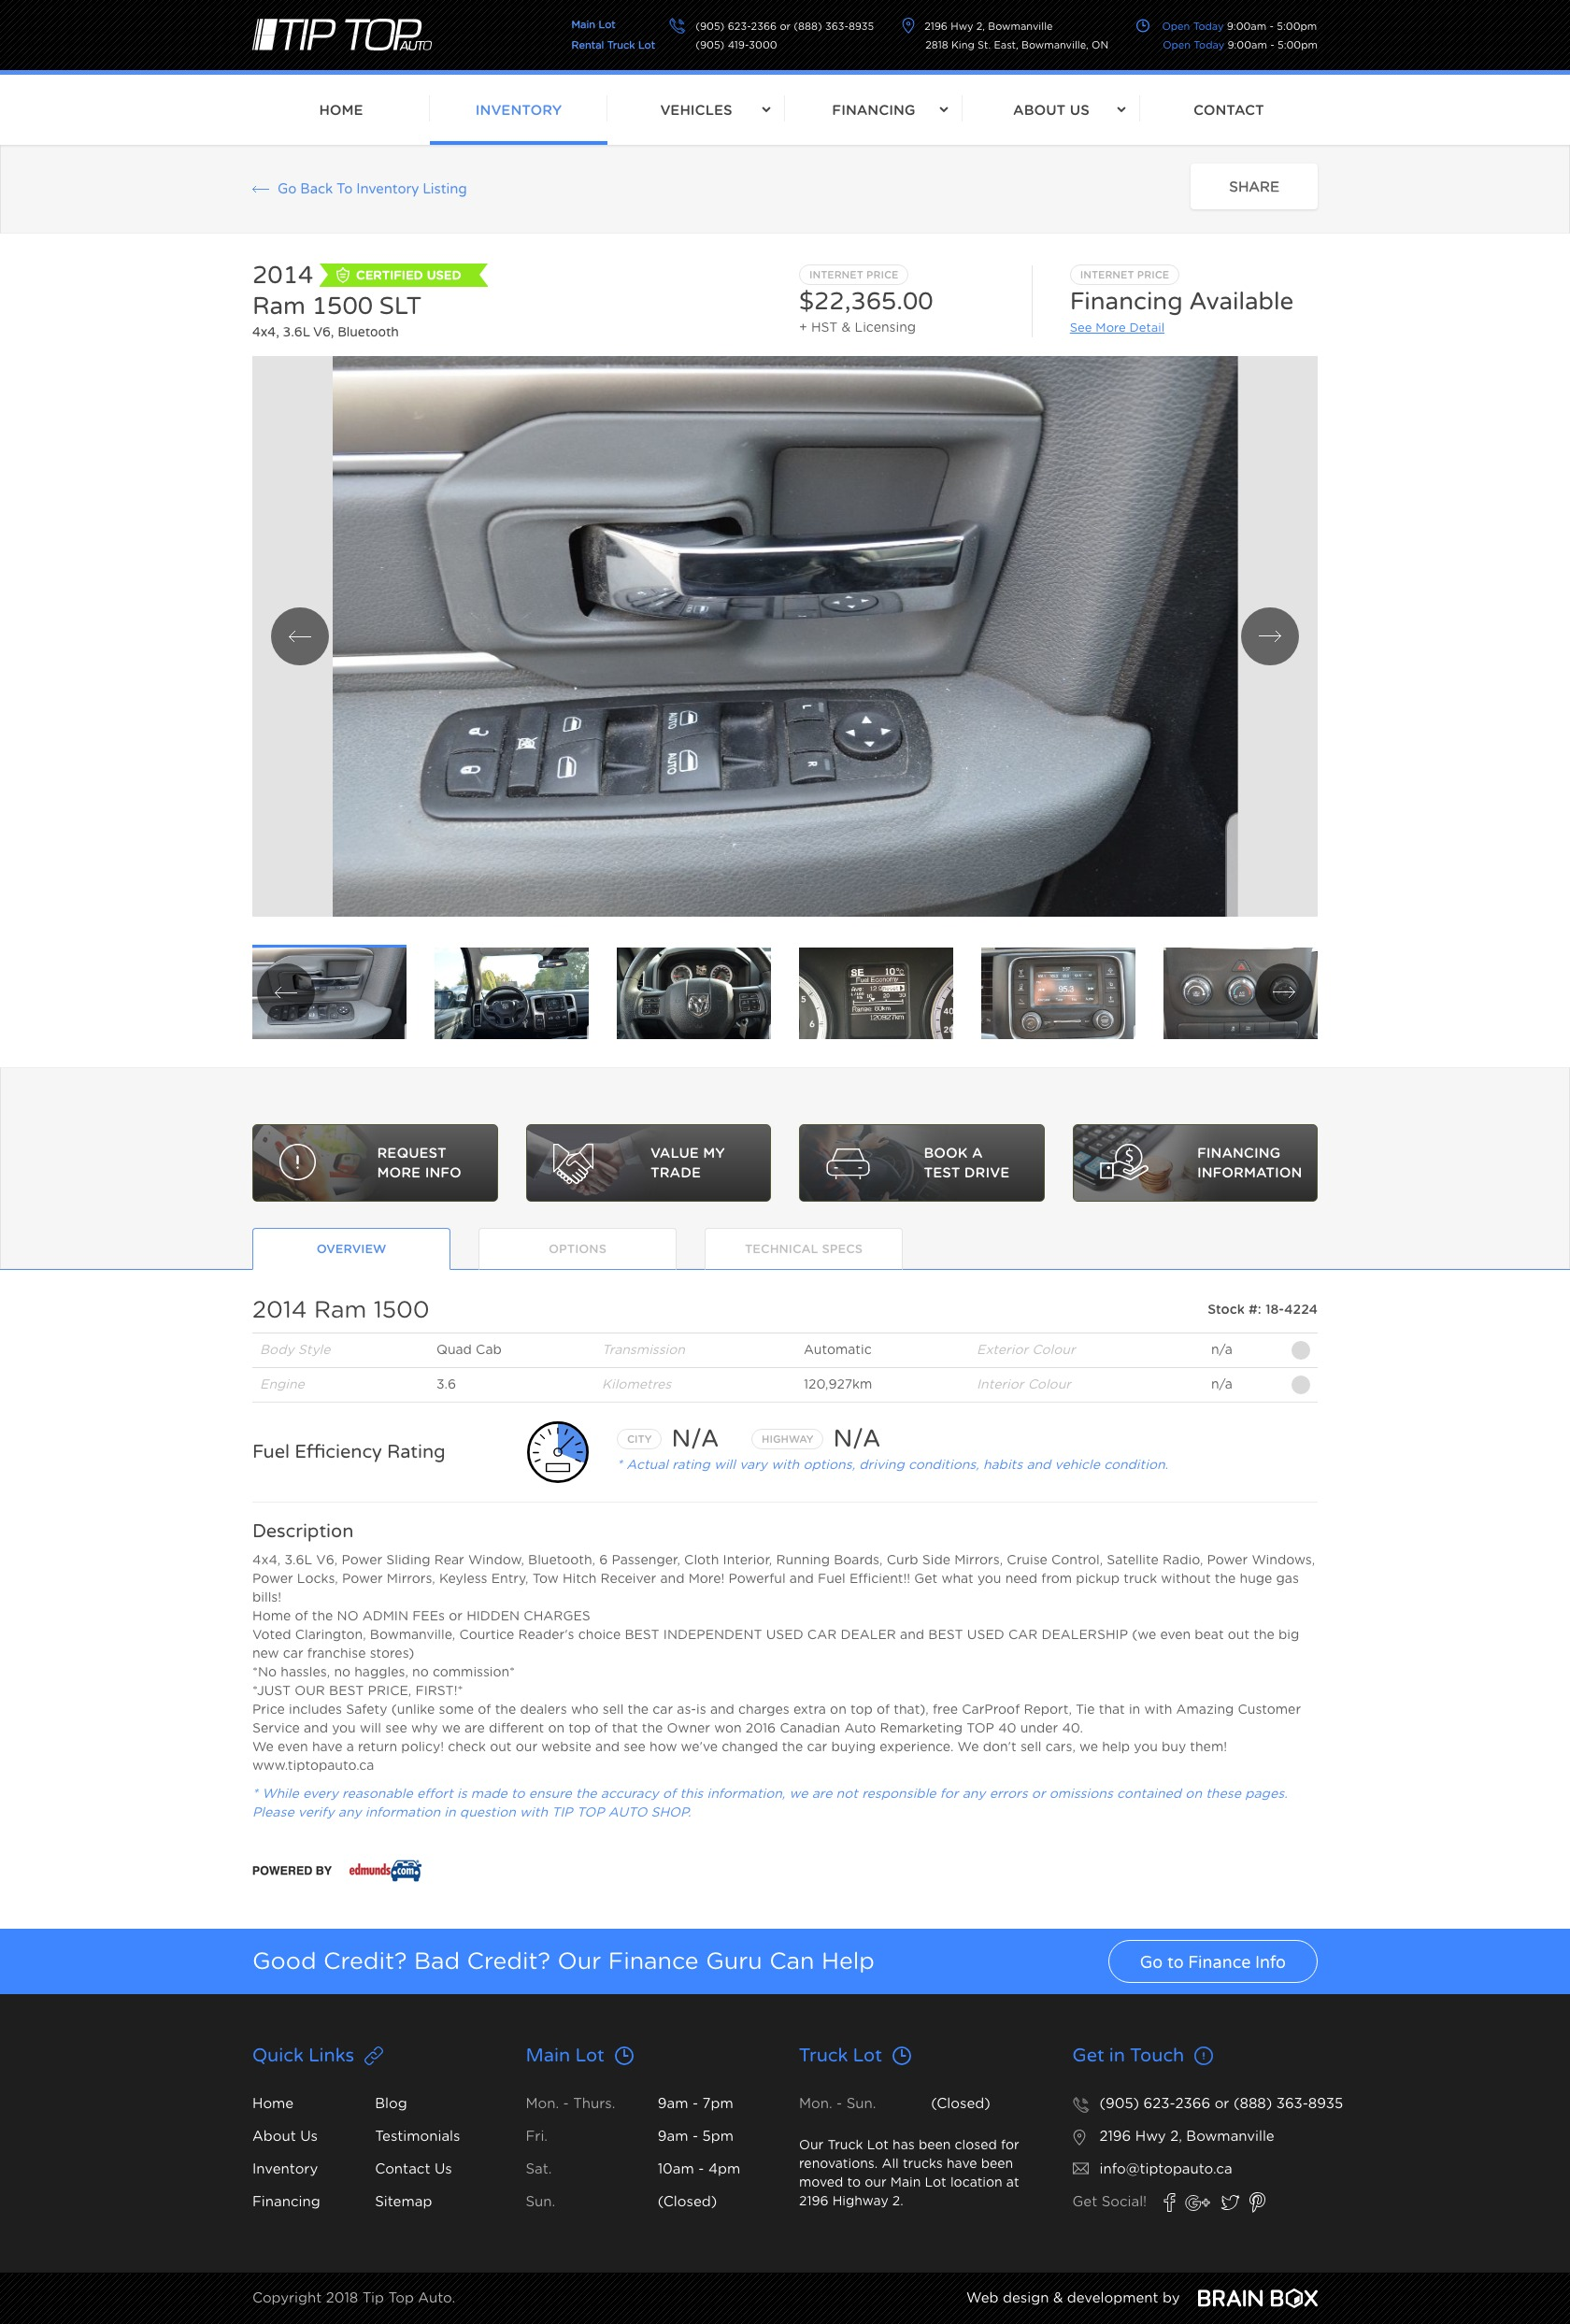car: (1255, 963, 1314, 1025)
